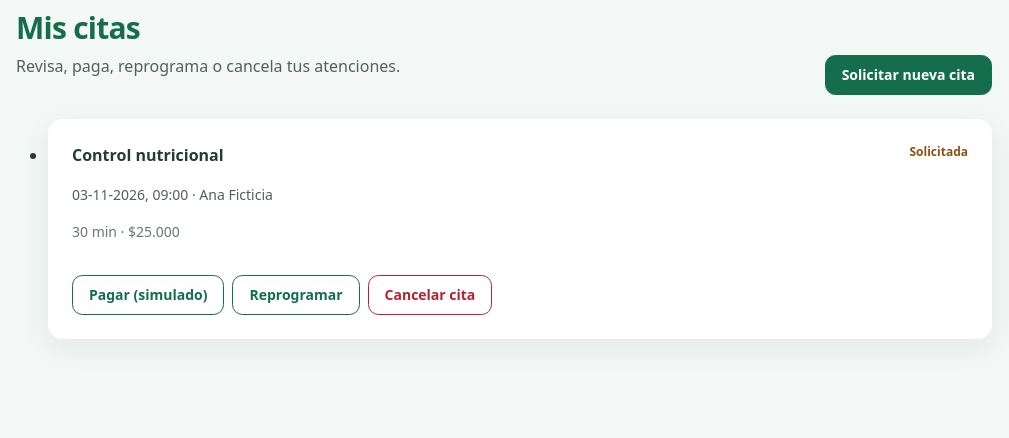
Mis citas del paciente › realiza un pago simulado
Click the button "Pagar (simulado)". click: (148, 295)
box: [72,275,224,315]
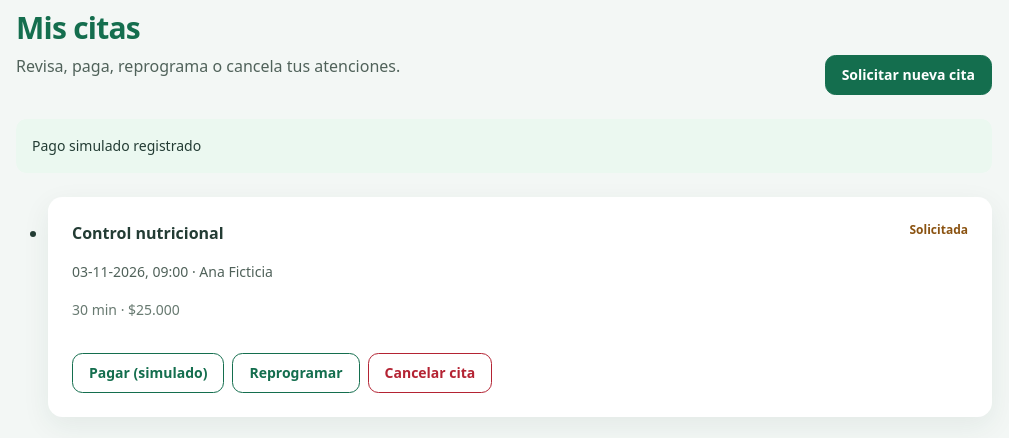
Now the text "Pago simulado registrado" is shown, box [16,119,992,173]
